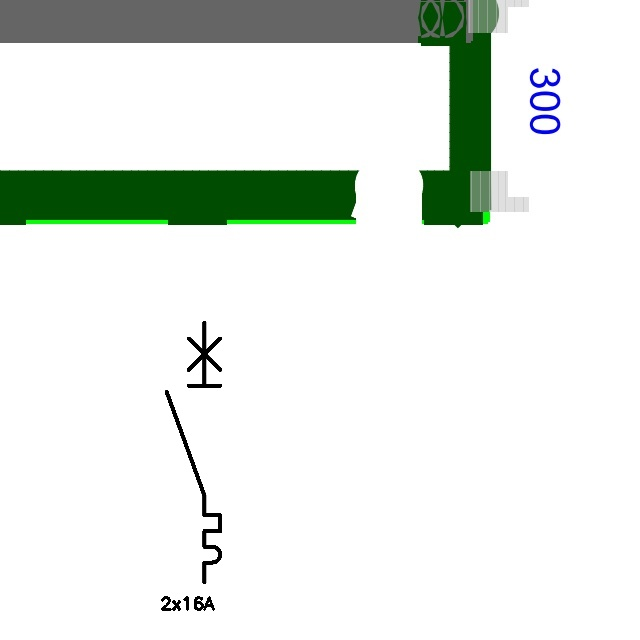interruptor_termomagnetico: (160, 316, 227, 589)
